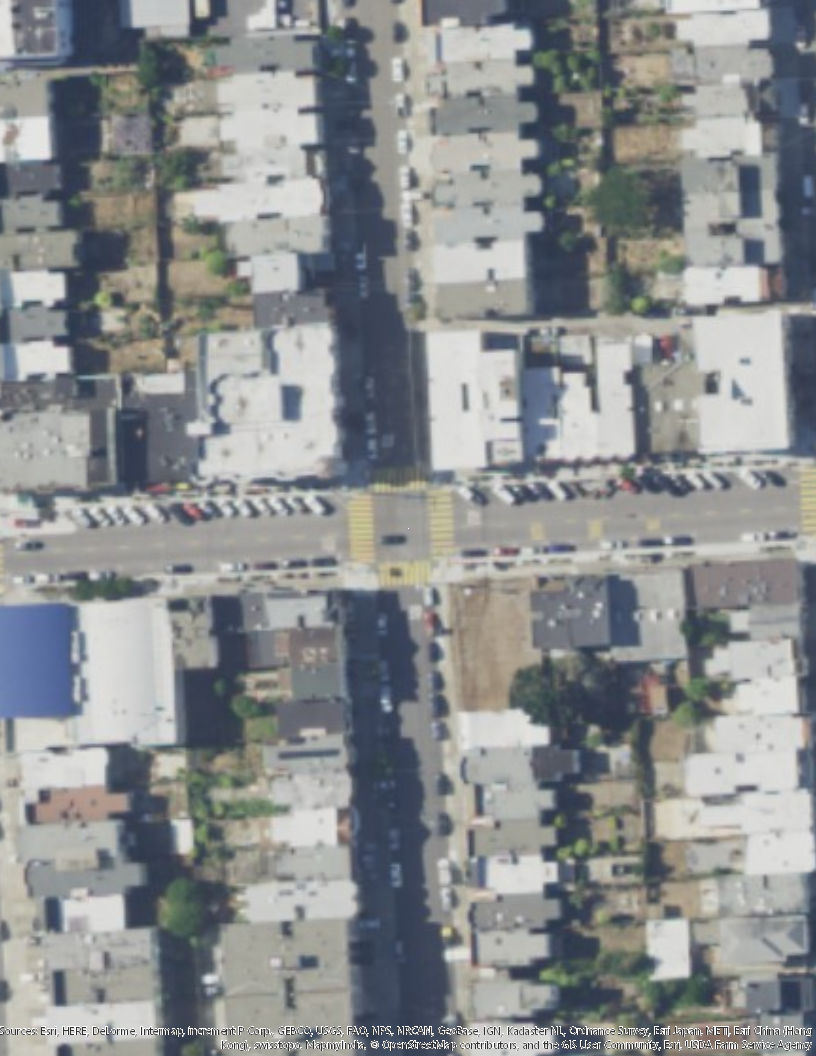zebracross: (427, 492, 461, 558), (346, 496, 375, 567), (371, 467, 429, 494), (377, 560, 432, 588), (797, 467, 816, 536)
